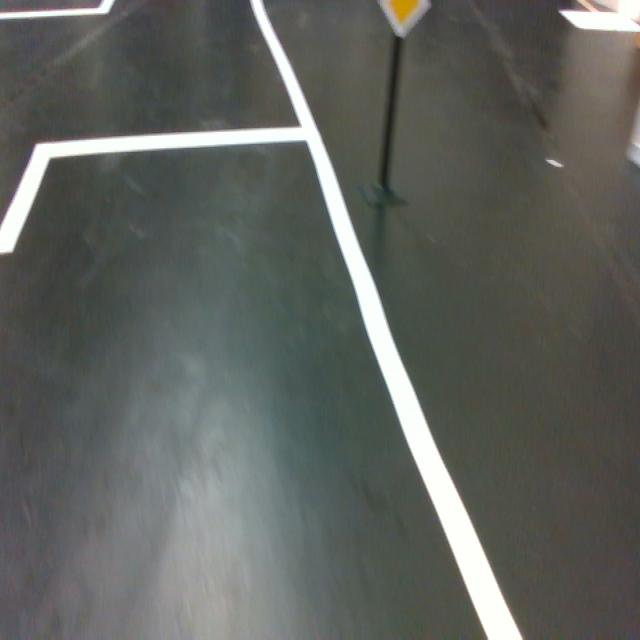priority-sign: (378, 0, 431, 40)
